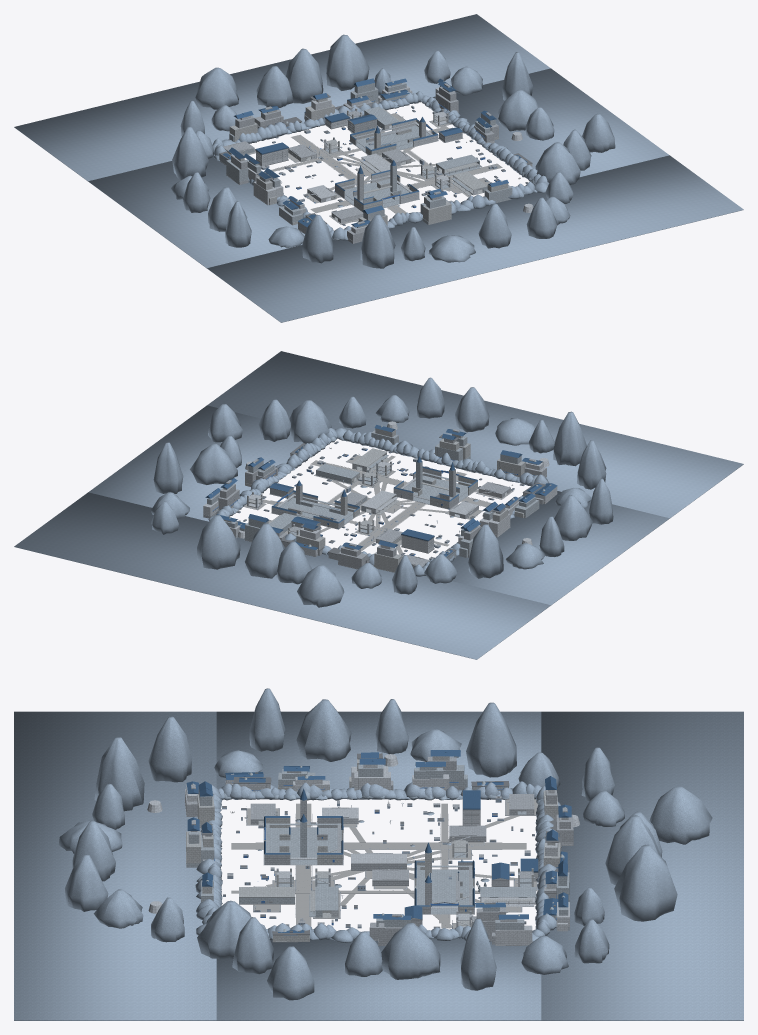
The model's file is setsugen-lod0.glb.
3 views of the same model, one above another, from view 1: azimuth 30°, elevation 25°; view 2: azimuth 150°, elevation 25°; view 3: azimuth 270°, elevation 25° (orthographic). The views are drawn at different scales.
Parts seen in each view (by area): view 1: HB_setsugen_LOD0_terrain, HB_setsugen_LOD0_wall_alt, HB_setsugen_LOD0_wall_cool, HB_setsugen_LOD0_wall, HB_setsugen_LOD0_wall_warm, HB_setsugen_LOD0_road, HB_setsugen_LOD0_roof, HB_setsugen_LOD0_trim, HB_setsugen_LOD0_LANDMARK_0_wall_cool, HB_setsugen_LOD0_LANDMARK_1_wall_cool; view 2: HB_setsugen_LOD0_terrain, HB_setsugen_LOD0_wall_alt, HB_setsugen_LOD0_wall_cool, HB_setsugen_LOD0_wall, HB_setsugen_LOD0_wall_warm, HB_setsugen_LOD0_road, HB_setsugen_LOD0_roof, HB_setsugen_LOD0_trim, HB_setsugen_LOD0_LANDMARK_0_wall_cool, HB_setsugen_LOD0_LANDMARK_1_wall_cool, HB_setsugen_LOD0_LANDMARK_0_wall_warm; view 3: HB_setsugen_LOD0_terrain, HB_setsugen_LOD0_wall_alt, HB_setsugen_LOD0_wall, HB_setsugen_LOD0_road, HB_setsugen_LOD0_wall_cool, HB_setsugen_LOD0_roof, HB_setsugen_LOD0_wall_warm, HB_setsugen_LOD0_trim, HB_setsugen_LOD0_LANDMARK_0_wall_cool, HB_setsugen_LOD0_LANDMARK_1_wall_cool, HB_setsugen_LOD0_LANDMARK_0_wall_alt, HB_setsugen_LOD0_obstacle (+3 smaller).
Boxes of the visible parts, <box> form: HB_setsugen_LOD0_terrain: <box>14,14,743,322</box>; HB_setsugen_LOD0_wall_alt: <box>220,83,518,243</box>; HB_setsugen_LOD0_wall_cool: <box>219,82,512,228</box>; HB_setsugen_LOD0_wall: <box>240,85,533,233</box>; HB_setsugen_LOD0_wall_warm: <box>228,83,532,225</box>; HB_setsugen_LOD0_road: <box>243,113,519,224</box>; HB_setsugen_LOD0_roof: <box>223,78,527,227</box>; HB_setsugen_LOD0_trim: <box>219,87,532,224</box>; HB_setsugen_LOD0_LANDMARK_0_wall_cool: <box>345,164,409,207</box>; HB_setsugen_LOD0_LANDMARK_1_wall_cool: <box>356,125,429,151</box>; HB_setsugen_LOD0_terrain: <box>14,351,743,659</box>; HB_setsugen_LOD0_wall_alt: <box>203,429,556,572</box>; HB_setsugen_LOD0_wall_cool: <box>207,430,539,559</box>; HB_setsugen_LOD0_wall: <box>203,421,557,565</box>; HB_setsugen_LOD0_wall_warm: <box>218,428,544,572</box>; HB_setsugen_LOD0_road: <box>244,448,512,556</box>; HB_setsugen_LOD0_roof: <box>205,425,557,556</box>; HB_setsugen_LOD0_trim: <box>213,434,549,561</box>; HB_setsugen_LOD0_LANDMARK_0_wall_cool: <box>404,461,471,504</box>; HB_setsugen_LOD0_LANDMARK_1_wall_cool: <box>280,495,355,524</box>; HB_setsugen_LOD0_LANDMARK_0_wall_warm: <box>393,477,477,509</box>; HB_setsugen_LOD0_terrain: <box>14,688,743,1020</box>; HB_setsugen_LOD0_wall_alt: <box>184,757,573,945</box>; HB_setsugen_LOD0_wall: <box>147,754,579,945</box>; HB_setsugen_LOD0_road: <box>231,799,537,929</box>; HB_setsugen_LOD0_wall_cool: <box>186,764,569,929</box>; HB_setsugen_LOD0_roof: <box>186,750,571,935</box>; HB_setsugen_LOD0_wall_warm: <box>186,756,568,944</box>; HB_setsugen_LOD0_trim: <box>190,753,565,935</box>; HB_setsugen_LOD0_LANDMARK_0_wall_cool: <box>266,821,341,864</box>; HB_setsugen_LOD0_LANDMARK_1_wall_cool: <box>415,865,473,913</box>; HB_setsugen_LOD0_LANDMARK_0_wall_alt: <box>264,799,341,864</box>; HB_setsugen_LOD0_obstacle: <box>222,798,534,928</box>.
Size of the model in its own units: 756 by 75.51 by 756.
Materials: 13 (11 with a texture image).
